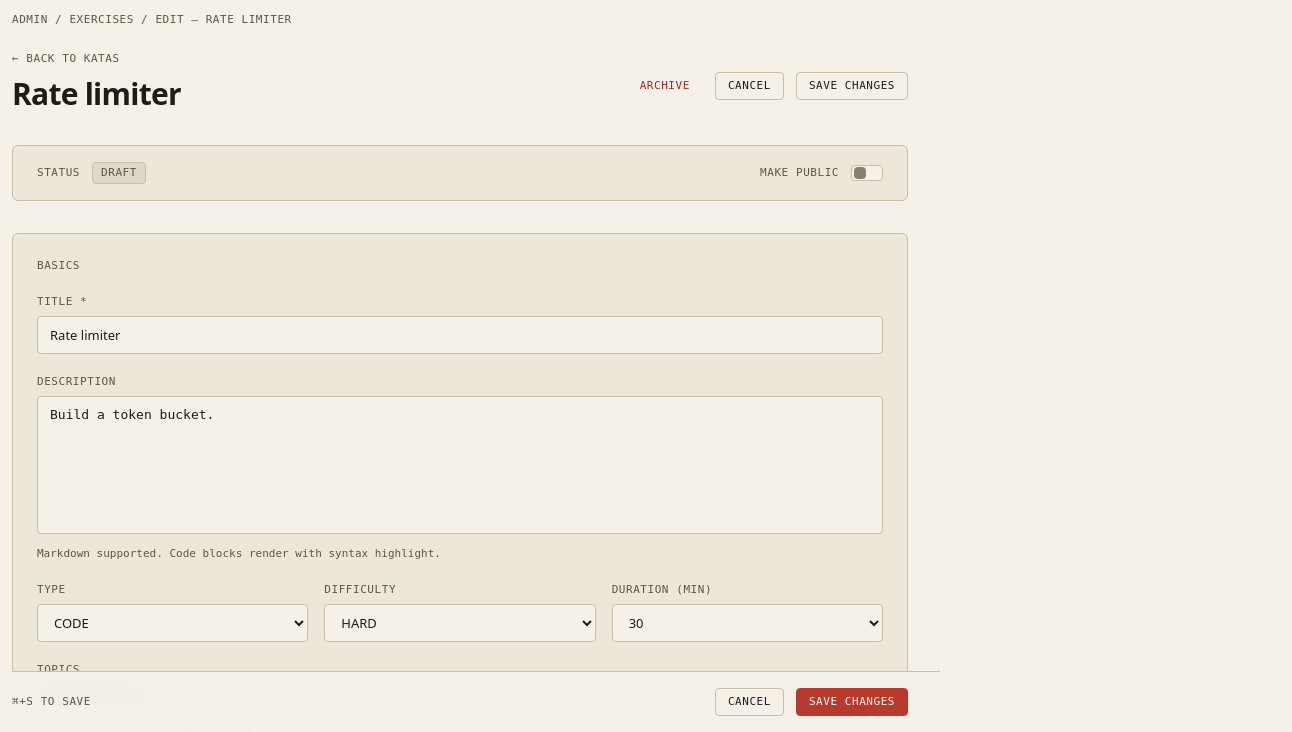
Test case: AdminEditKataPage › blocks save and shows the validation banner when the title is cleared
Clear the field with placeholder "e.g. Refactor a 200-line useEffect" at (460, 334), box [37, 316, 883, 354]
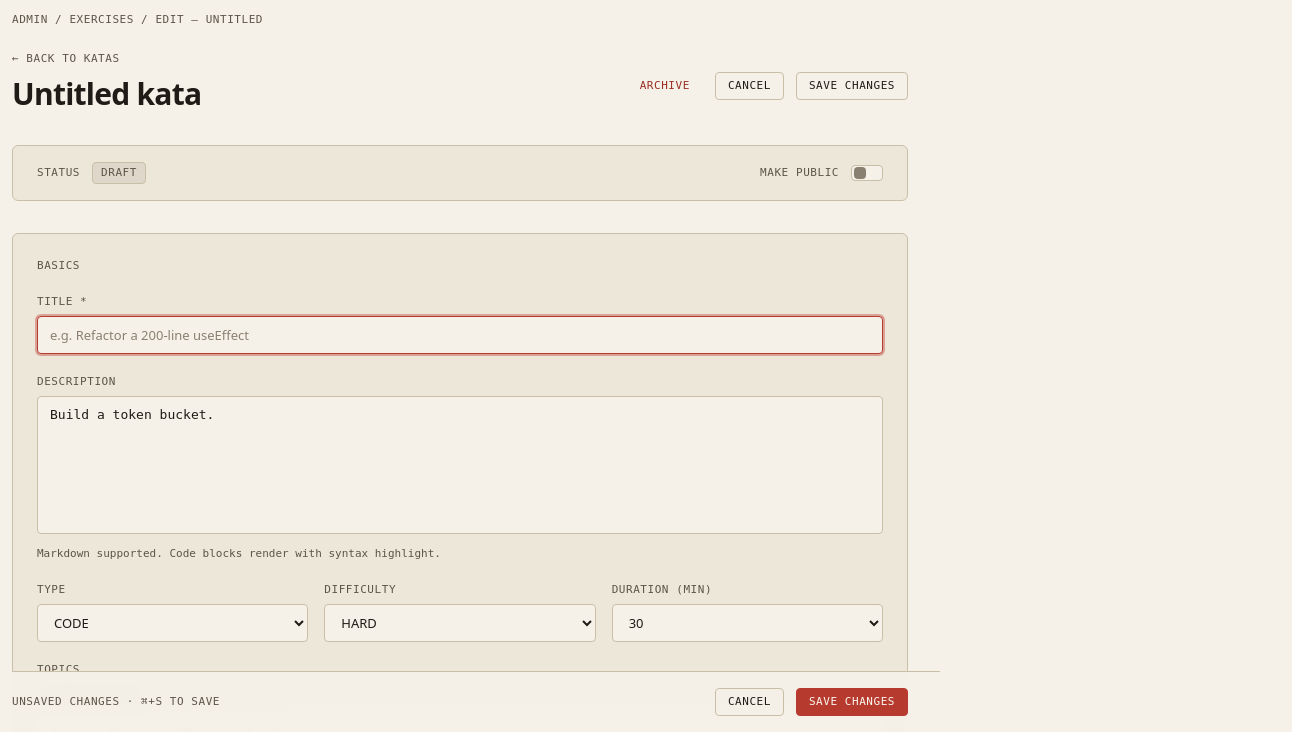
Click the button "Save changes" in the row of "Untitled kata" at (852, 86), box [796, 72, 908, 100]
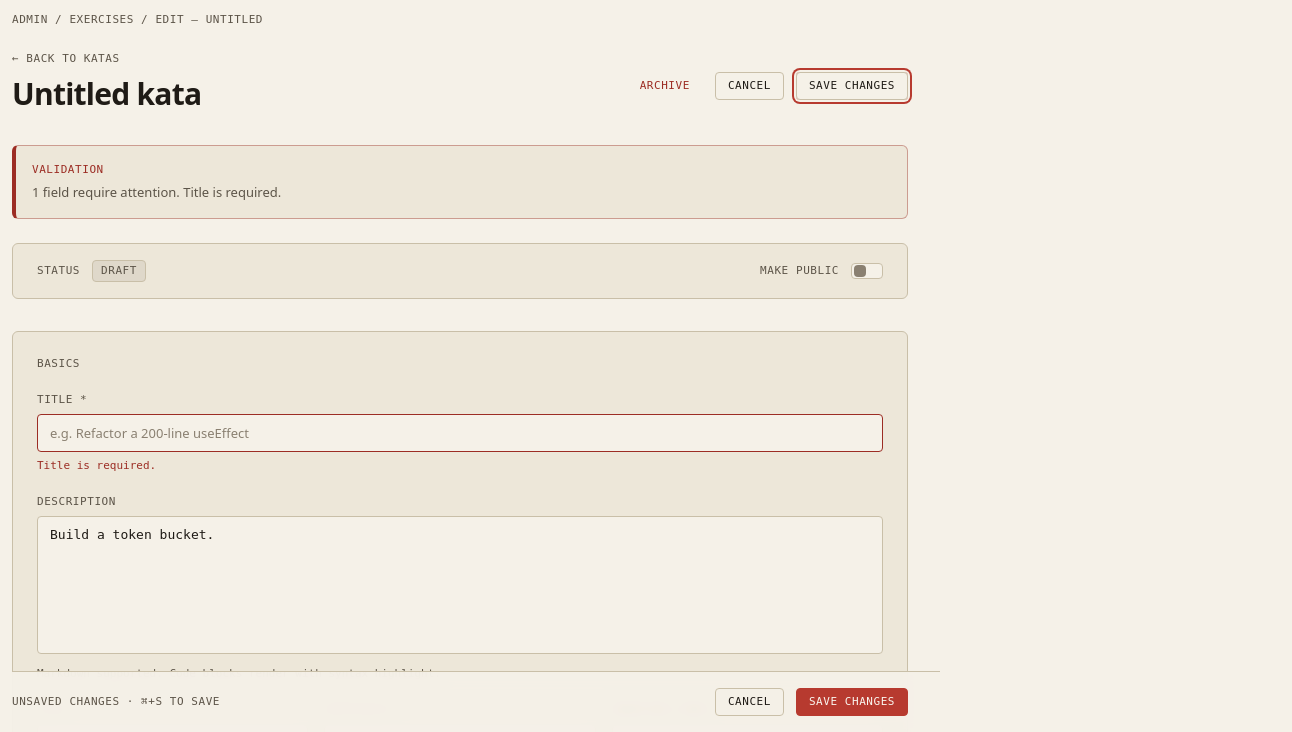
Now the text "Validation" is shown, box [32, 162, 104, 176]
Now the text "1 field require attention. Title is required." is shown 2 times, box [32, 182, 281, 200]; [37, 458, 156, 472]
